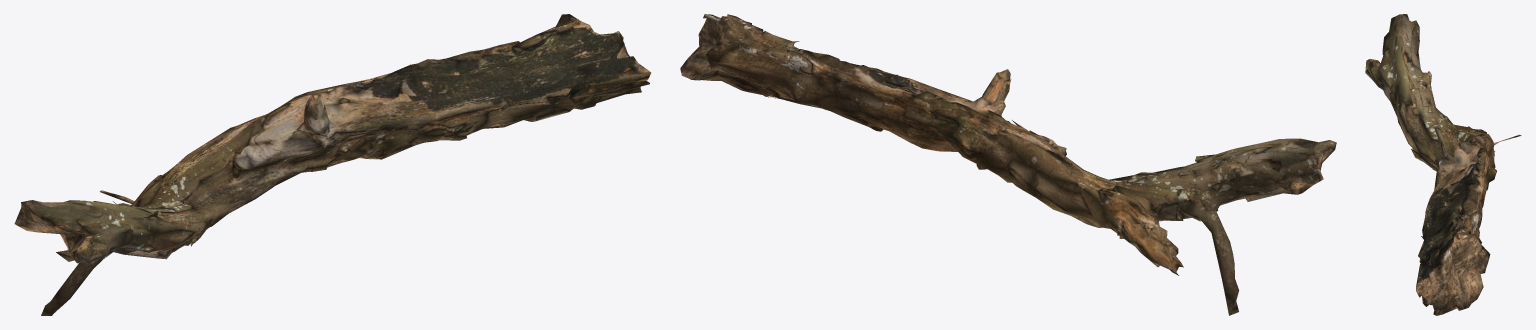
File: dead_tree_trunk_02.glb
3 views of the same model, side by side, from view 1: azimuth 30°, elevation 25°; view 2: azimuth 150°, elevation 25°; view 3: azimuth 270°, elevation 25° (orthographic). The views are drawn at different scales.
Visible parts, largest first — view 1: dead_tree_trunk_02; view 2: dead_tree_trunk_02; view 3: dead_tree_trunk_02.
Boxes of the visible parts, <box> form: dead_tree_trunk_02: <box>14,14,651,315</box>; dead_tree_trunk_02: <box>680,14,1336,315</box>; dead_tree_trunk_02: <box>1365,14,1521,315</box>.
Size of the model in its own units: 4.05 by 1.05 by 1.05.
1 material, 1 textured.
